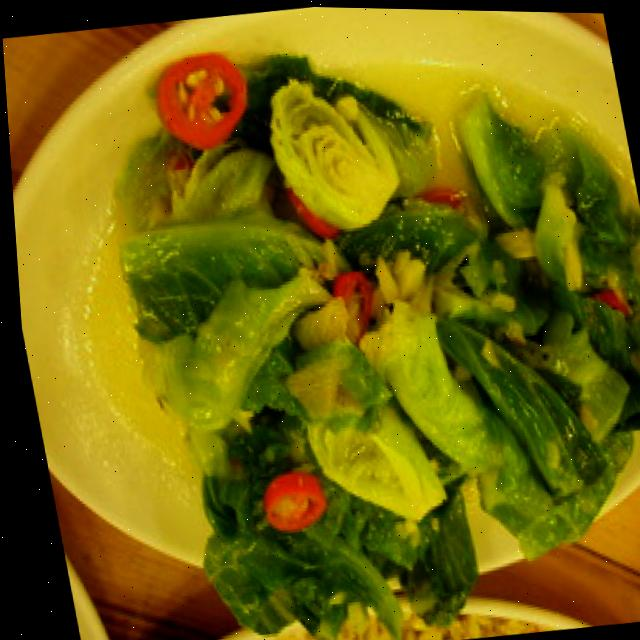蔬菜料理: (17, 23, 640, 640)
